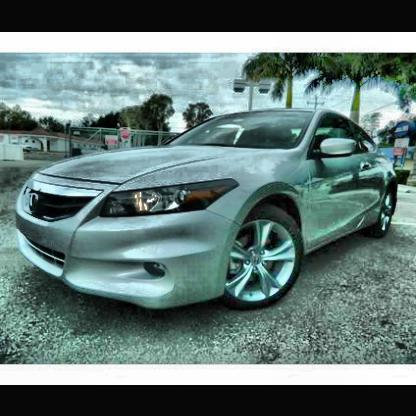Honda Accord Coupe 2012: (15, 109, 403, 315)
